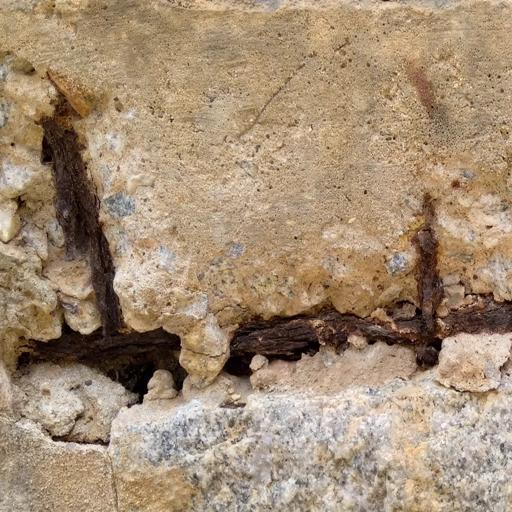spalling: (10, 301, 512, 432), (23, 71, 171, 314), (401, 194, 453, 336)
